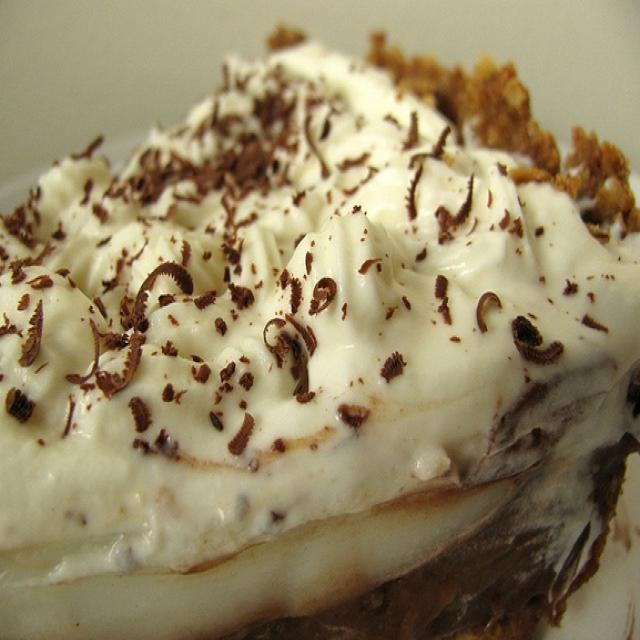蛋糕甜品: (31, 17, 613, 624)
